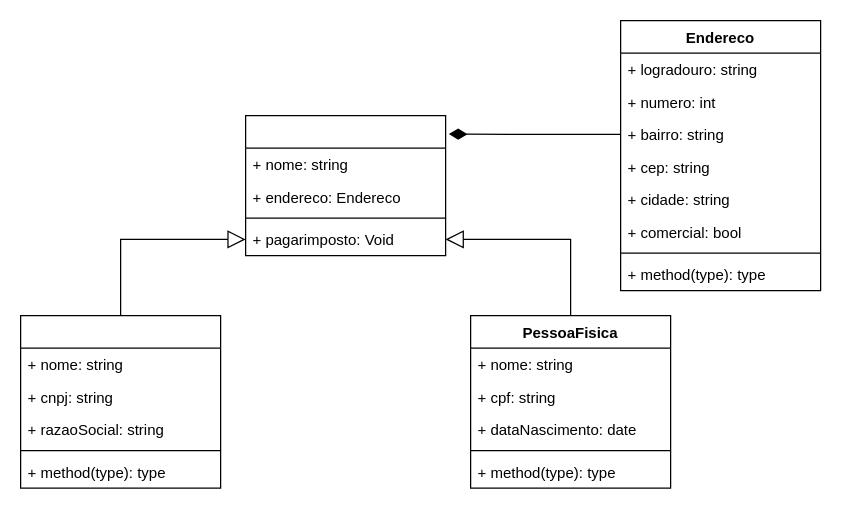
This 841x509 diagram has some shape labels left out. The shapes that lost their labels are listed below. From the top down, each one's box as (x1, y1, x2, y2) in pixels, then its label:
(244, 114, 446, 256): Pessoa
(19, 314, 221, 488): PessoaJuridica
